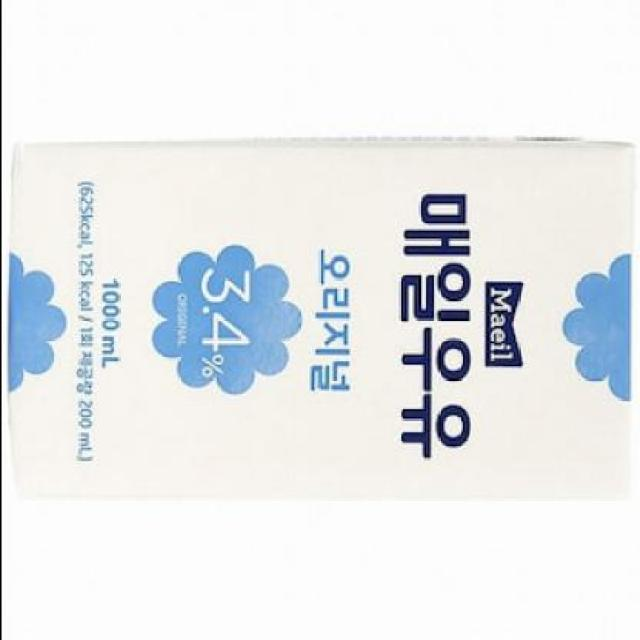tetra: (2, 83, 640, 557)
